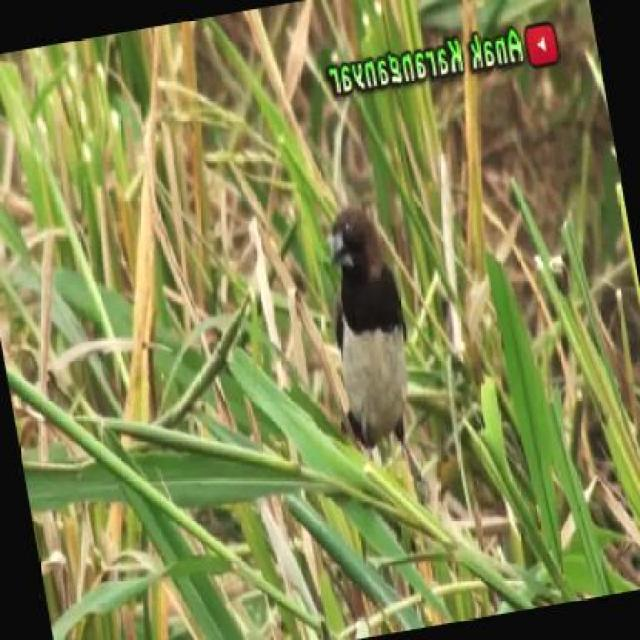Bird: (312, 203, 424, 465)
